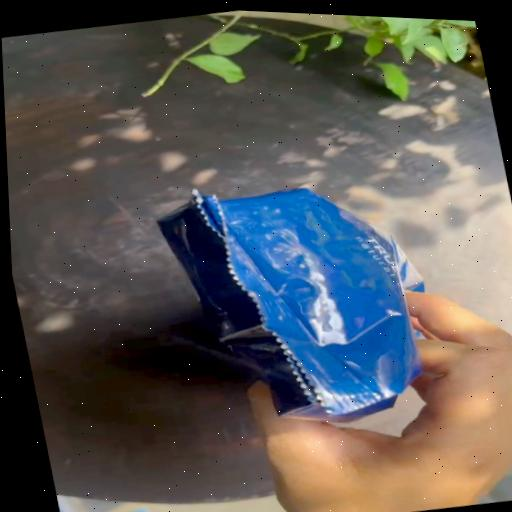cafe_hat: (157, 188, 424, 421)
